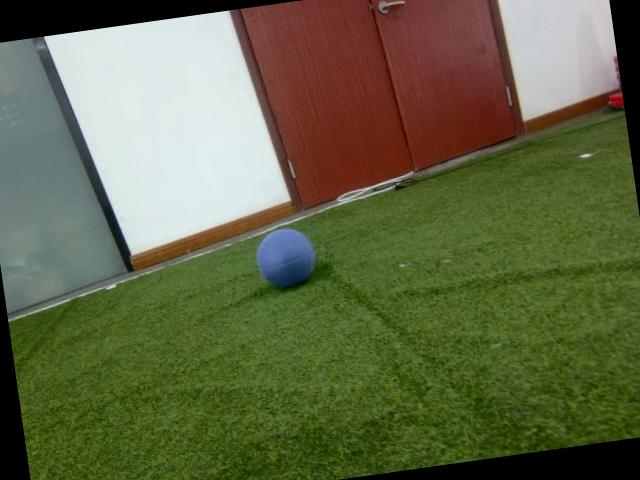blue_ball: (252, 225, 318, 292)
